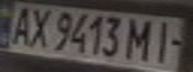1: (84, 12, 109, 56)
3: (100, 14, 127, 58)
4: (66, 10, 90, 54)
9: (48, 8, 75, 52)
A: (3, 3, 39, 47)
I: (145, 17, 184, 64)
M: (124, 15, 160, 62)
X: (24, 4, 54, 50)
